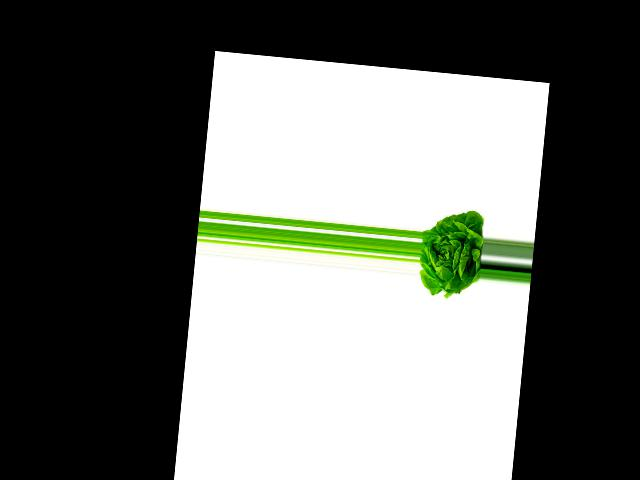lettuce: (417, 204, 486, 297)
